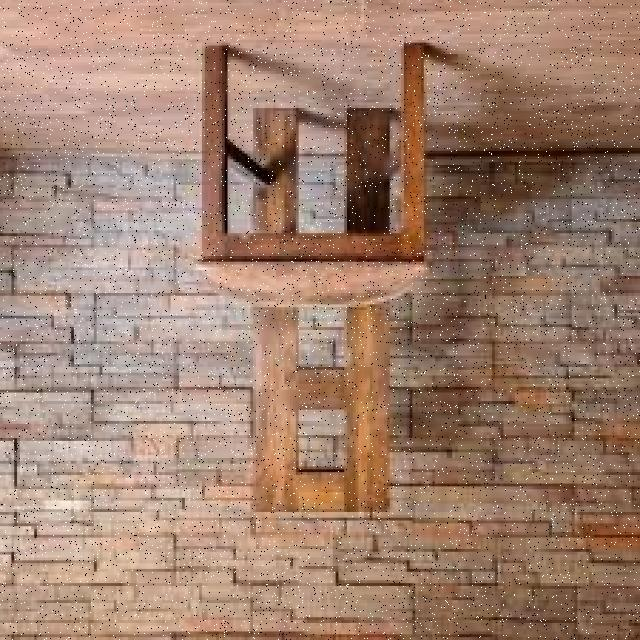bottle: (197, 42, 438, 514)
